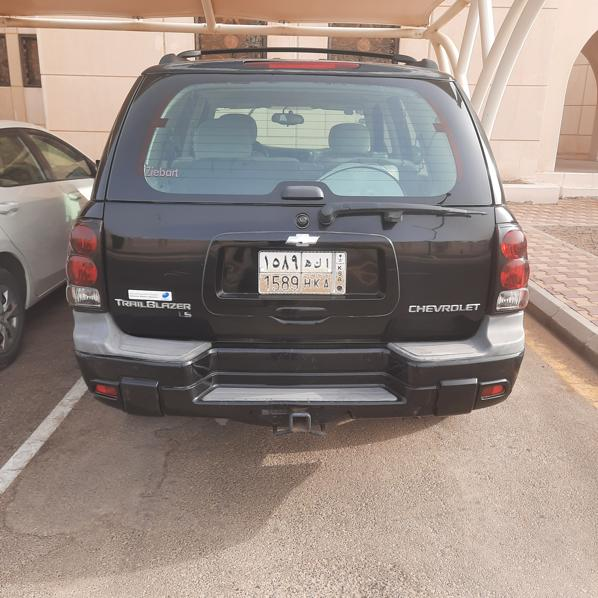numberplate: (257, 251, 347, 295)
